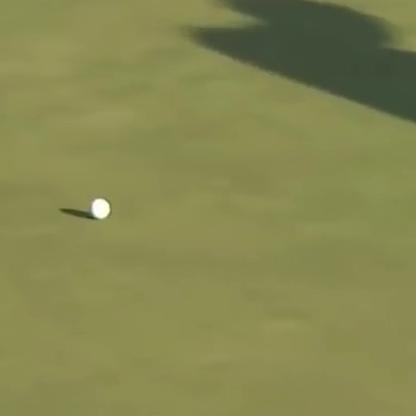golfball: (90, 193, 109, 217)
